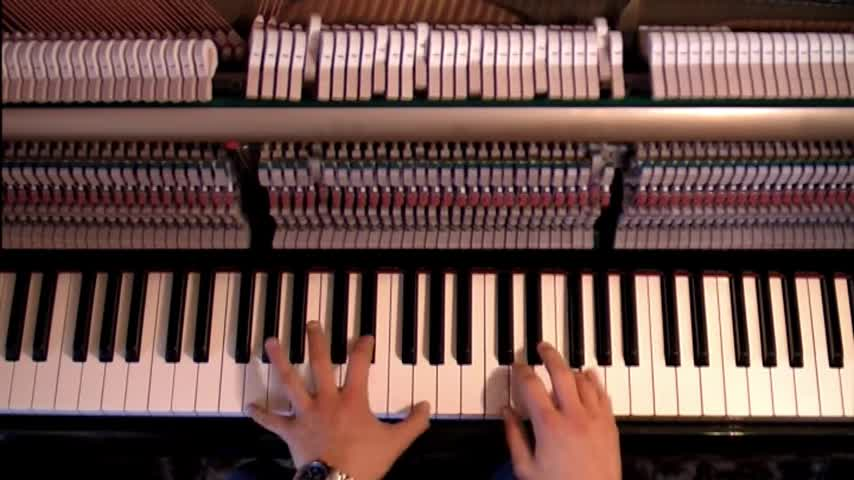left: (249, 317, 431, 480)
right: (503, 338, 622, 480)
